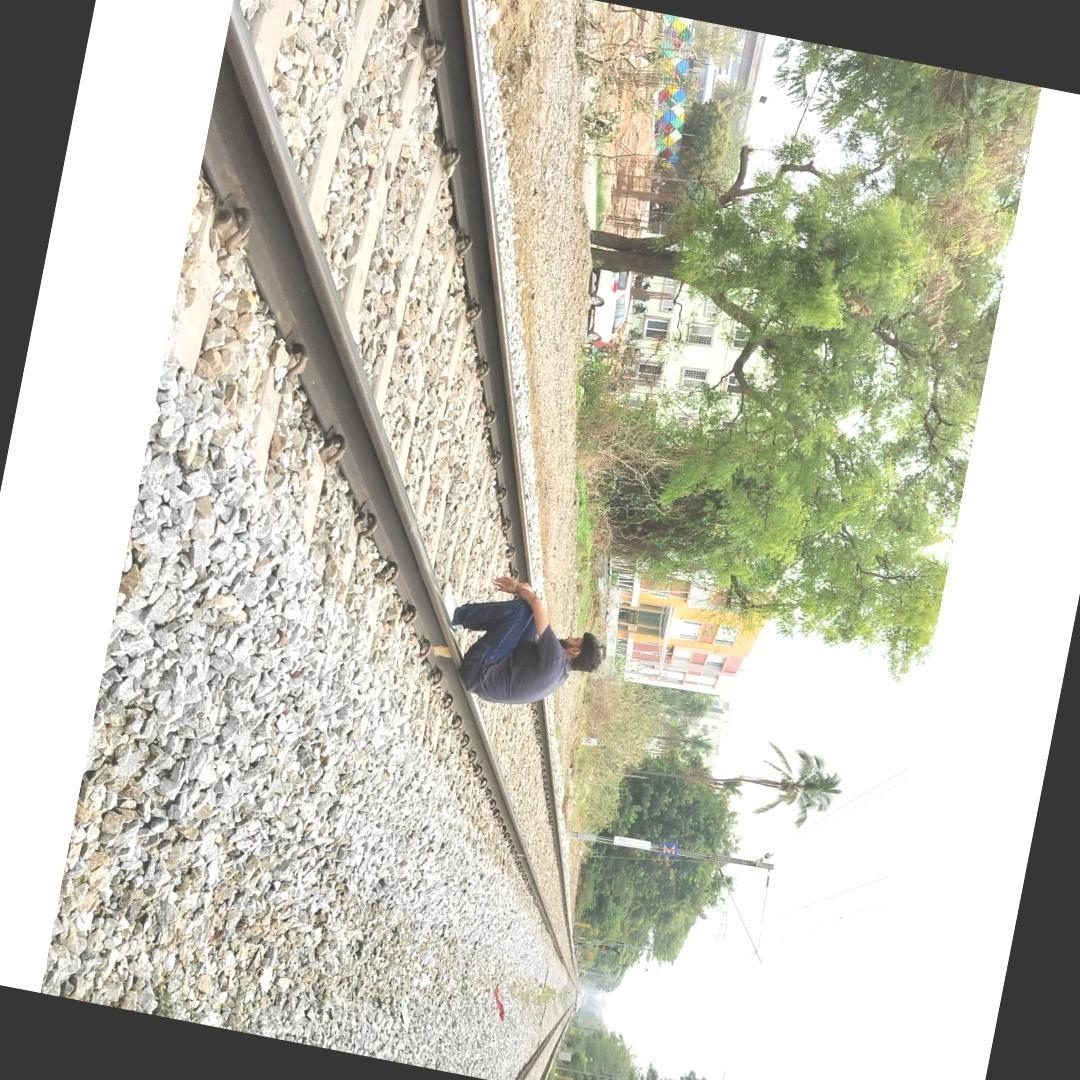track: (203, 0, 587, 993)
